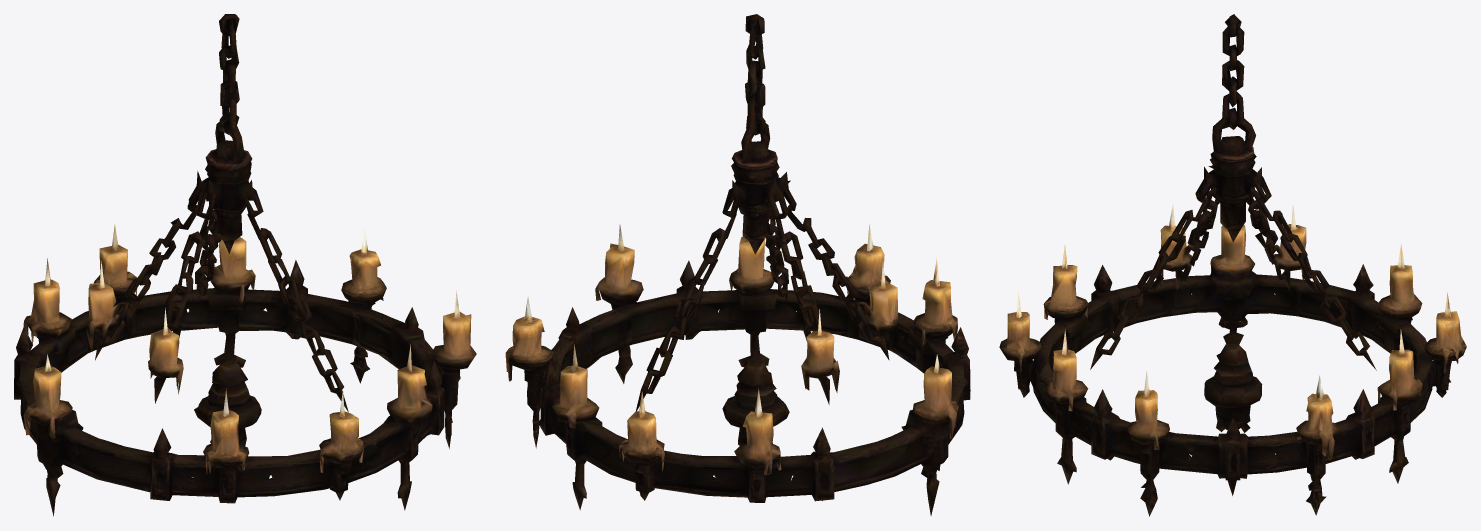
File: chandelier.glb
3 renders of one model, left to right at view 1: azimuth 30°, elevation 25°; view 2: azimuth 150°, elevation 25°; view 3: azimuth 270°, elevation 25°, orthographic. The views are drawn at different scales.
Parts seen in each view (by area): view 1: chandelier; view 2: chandelier; view 3: chandelier.
Part boxes in pixels (<box>): chandelier: <box>14,14,476,516</box>; chandelier: <box>505,14,970,515</box>; chandelier: <box>999,14,1466,516</box>.
Size of the model in its own units: 1.47 by 1.7 by 1.57.
1 material, 1 textured.
